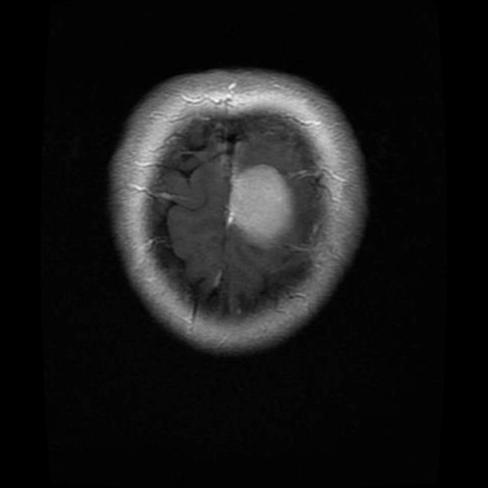Tumour-Pituitary: (217, 153, 315, 262)
